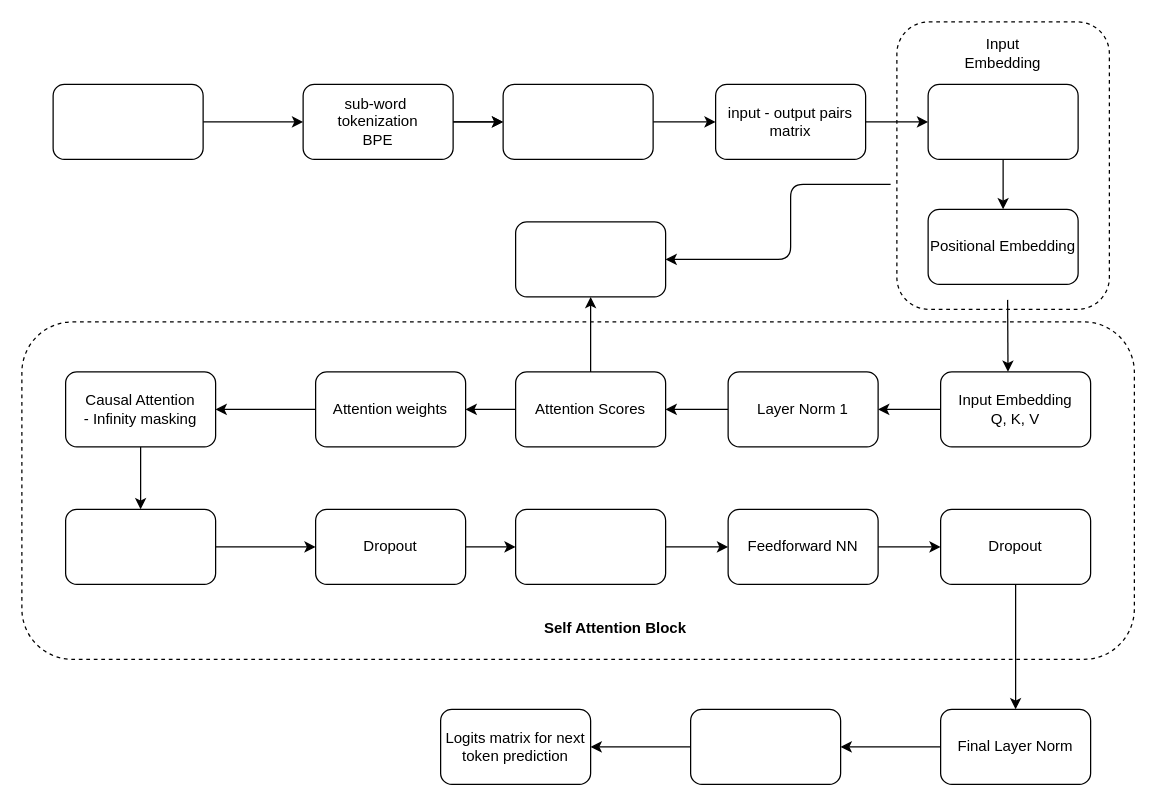
This 1156x806 diagram has some shape labels left out. Here are the shapes that lost their labels. From the top down, the centre of each, then its label:
At (x=127, y=121): "corpus".
At (x=577, y=121): "Token IDs".
At (x=1002, y=121): "Token Embedding multi dim vectors".
At (x=590, y=259): "Context Vector".
At (x=140, y=546): "Masked Multi-head attention".
At (x=590, y=546): "Layer Norm 2".
At (x=765, y=746): "Output Layer".
